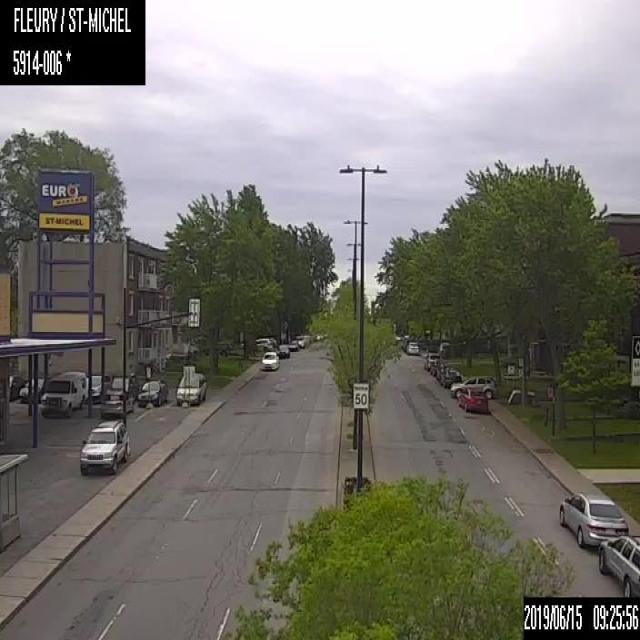vehicle: (558, 491, 628, 546), (79, 421, 129, 473), (598, 533, 639, 596), (40, 374, 82, 416), (450, 374, 497, 398), (175, 371, 206, 405), (105, 373, 138, 402), (64, 369, 88, 402), (458, 386, 487, 411), (138, 380, 166, 405), (19, 374, 44, 401), (87, 372, 109, 401), (6, 373, 24, 401), (439, 366, 461, 387), (241, 337, 272, 351), (260, 351, 279, 370), (423, 352, 439, 370), (428, 359, 445, 375), (276, 343, 289, 358), (297, 334, 311, 347), (406, 341, 418, 353), (287, 339, 299, 349)
